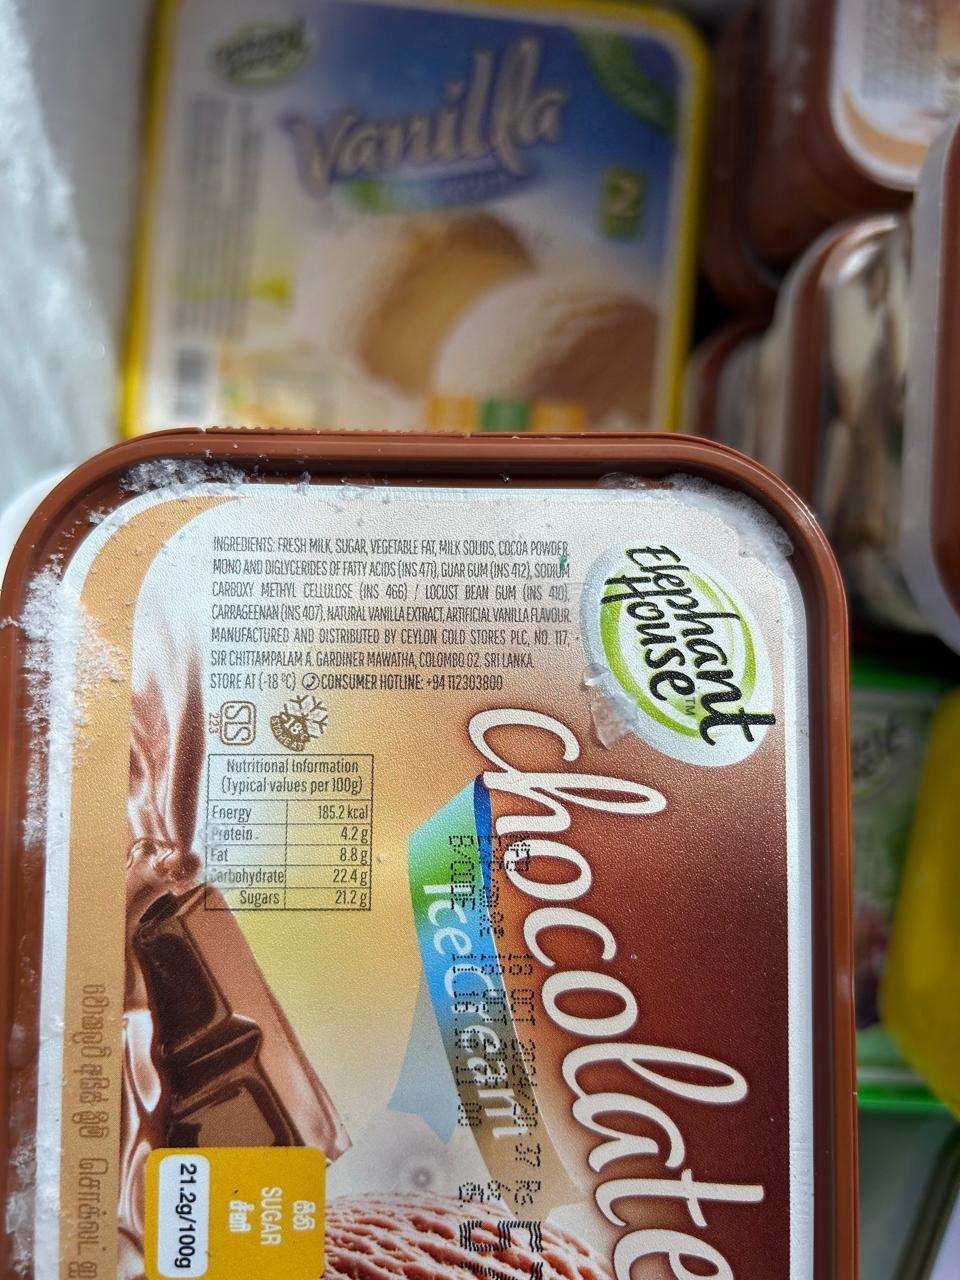ingredients: (196, 481, 674, 754)
